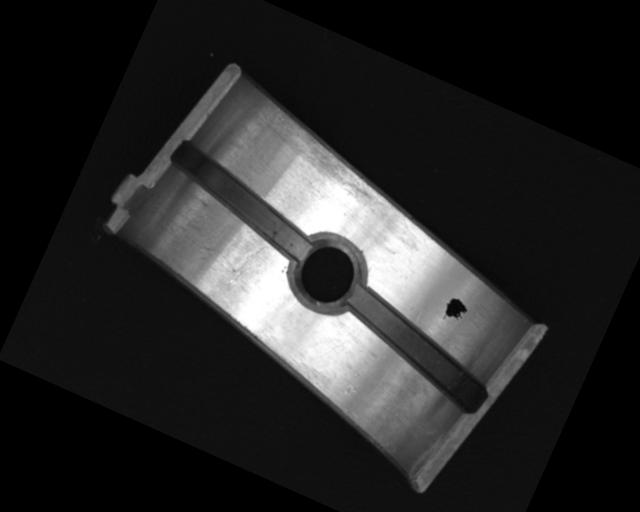blot: (439, 293, 472, 327)
bruise: (195, 241, 221, 267), (341, 381, 357, 399)
gap: (325, 281, 504, 414), (152, 137, 329, 263)
hole: (277, 221, 378, 325)
nick: (224, 232, 269, 294)
scratch: (251, 104, 406, 214)
